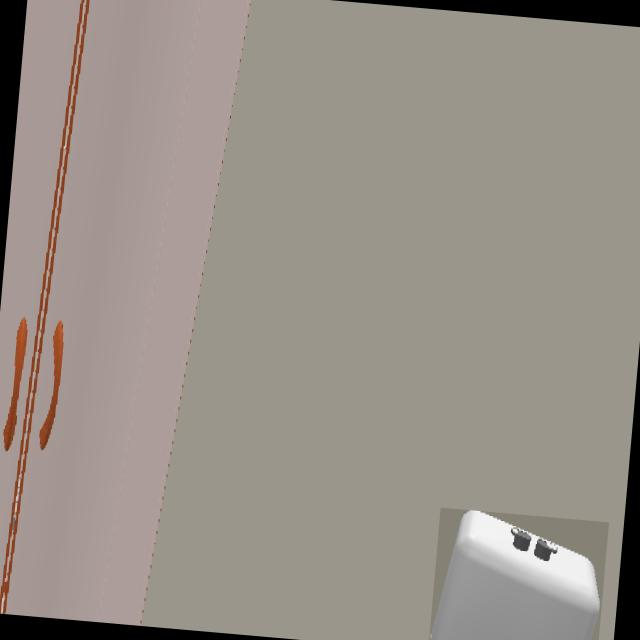toilet: (429, 510, 601, 640)
